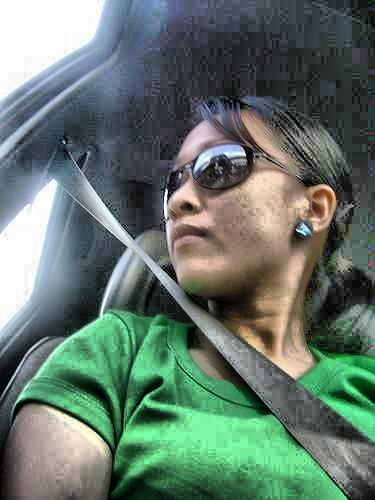seatbelt: (44, 141, 339, 457)
